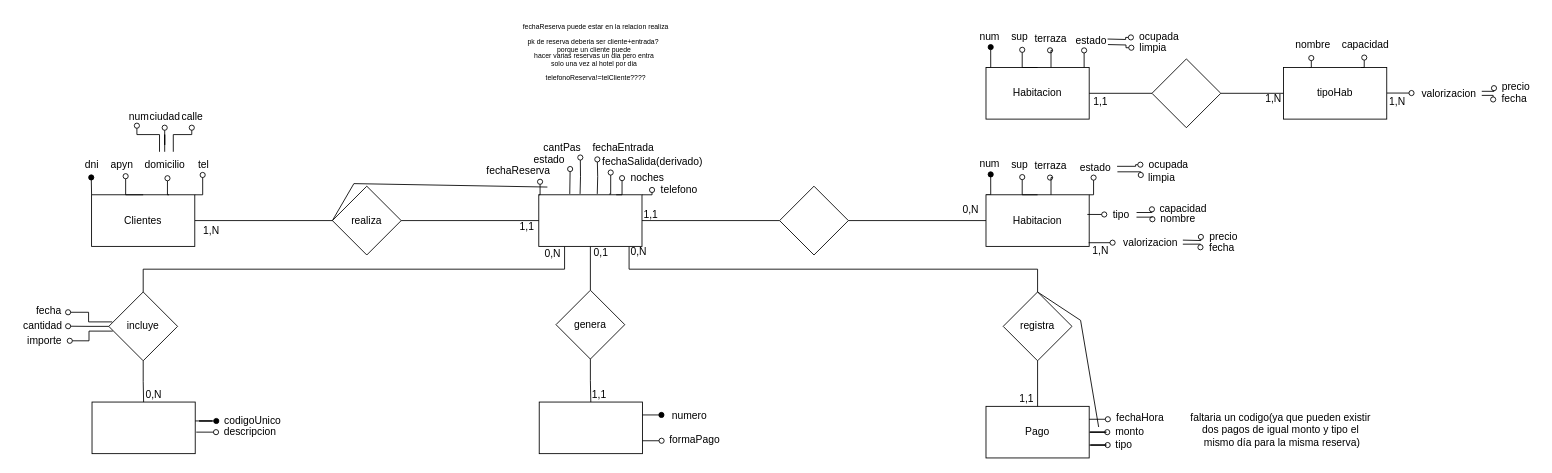
Some shapes in this 1552 by 473 pixel diagram are drawn without their labels. Each missing label, with the centre of its shape:
"asigna" belongs at point 813,220.
"Factura" belongs at point 590,427.
"Reservas" belongs at point 590,220.
"Servicio" belongs at point 143,427.
"tiene" belongs at point 1186,93.
